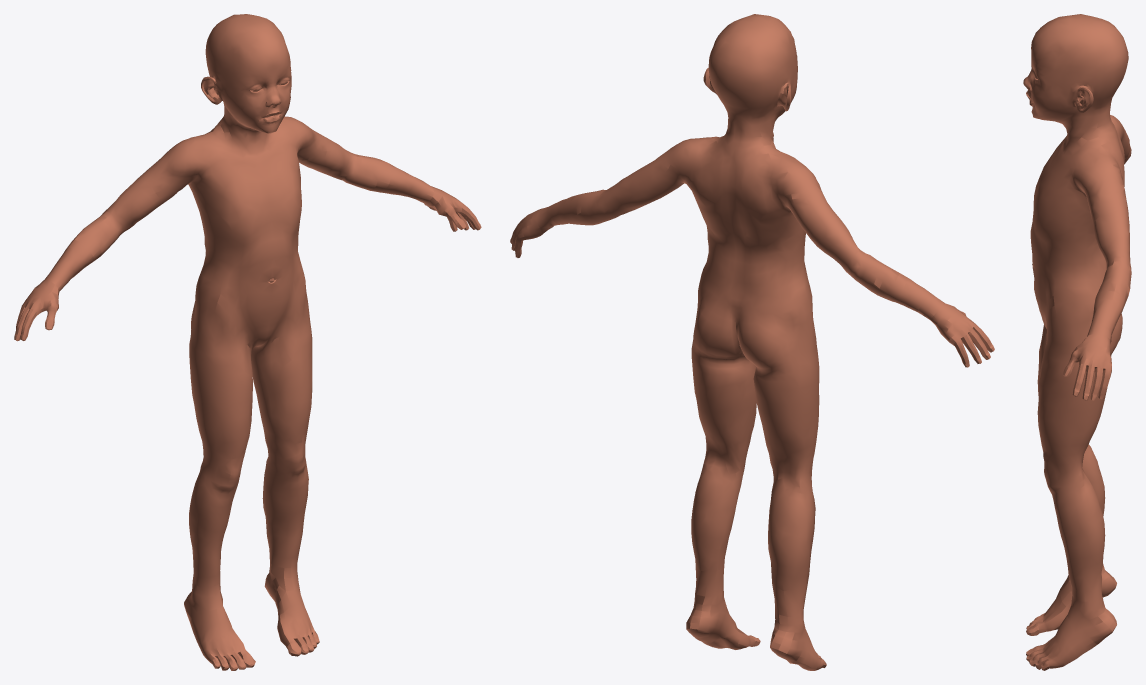
The model's file is child.glb.
3 views of the same model, side by side, from view 1: azimuth 30°, elevation 25°; view 2: azimuth 150°, elevation 25°; view 3: azimuth 270°, elevation 25° (orthographic). The views are drawn at different scales.
Parts seen in each view (by area): view 1: Mesh (2); view 2: Mesh (2); view 3: Mesh (2).
Part boxes in pixels (x1,y1,x2,y2): Mesh (2): (14, 14, 481, 670); Mesh (2): (510, 14, 994, 670); Mesh (2): (1023, 14, 1131, 670).
Bounding box in the file's own units: 11.07 × 14.32 × 2.23.
